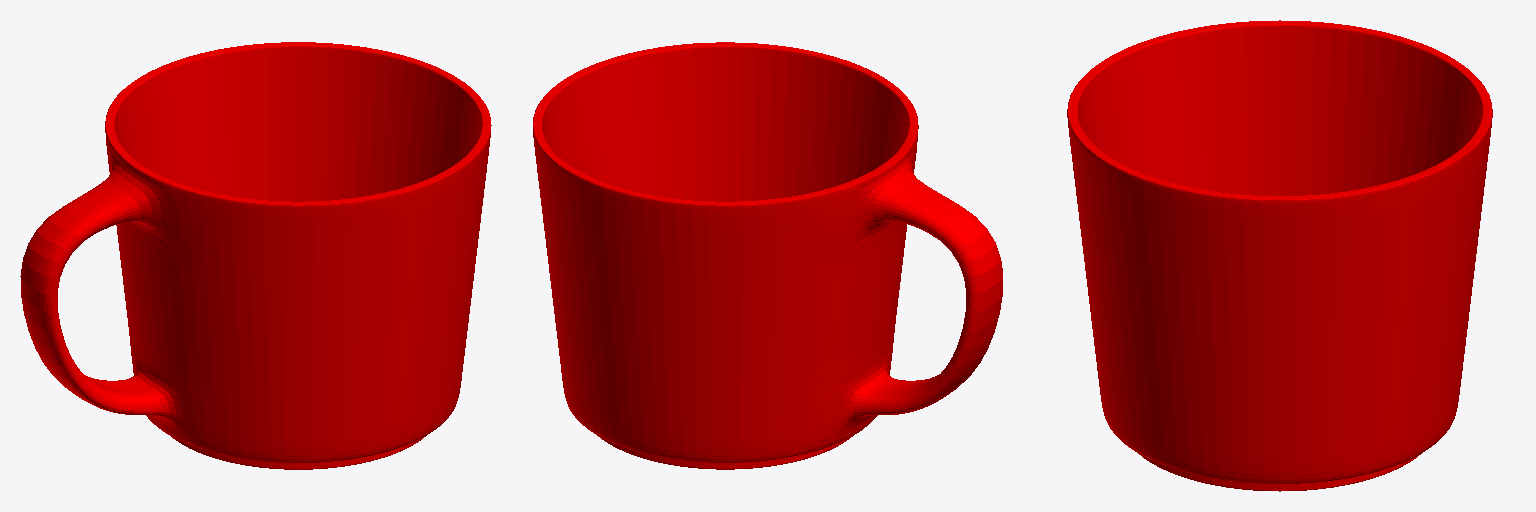
URDF robot description (widecup.urdf):
<?xml version="1.0" ?>
<robot name="widecup.urdf">
  <link concave="yes" name="baseLink">
    <inertial>
      <origin rpy="0 0 0" xyz="0 0 0"/>
       <mass value="1"/>
       <inertia ixx="1" ixy="0" ixz="0" iyy="1" iyz="0" izz="1"/>
    </inertial>
    <visual>
      <origin rpy="1.570796326794896619231 0 0" xyz="0 0 0"/>
      <geometry>
        <mesh filename="widecup.obj" scale="0.0015 0.0015 0.0015"/>
      </geometry>
      <material name="red">
       <color rgba="1 0 0 1"/>
     </material>
    </visual>
    <collision concave="yes">
      <origin rpy="1.570796326794896619231 0 0" xyz="0 0 0"/>
      <geometry>
        <mesh filename="widecup.obj" scale="0.0015 0.0013 0.0015"/>
      </geometry>
    </collision>
  </link>
</robot>
        

--- Render facts (derived) ---
Views: 3 orthographic renders of the robot side by side, from view 1: azimuth 30°, elevation 25°; view 2: azimuth 150°, elevation 25°; view 3: azimuth 270°, elevation 25°.
Model widecup.urdf with 1 links and 0 joints (none), rooted at baseLink, posed all joints at 0.
Visible links, largest first — view 1: baseLink; view 2: baseLink; view 3: baseLink.
Link boxes in pixels (x1,y1,x2,y2): baseLink: [20, 42, 491, 469]; baseLink: [533, 42, 1002, 469]; baseLink: [1067, 20, 1492, 491].
Bounding box of the posed robot: 0.1556 × 0.119 × 0.0974 m (x, y, z).
1 mesh visuals loaded from 1 distinct referenced files (1 OBJ).
